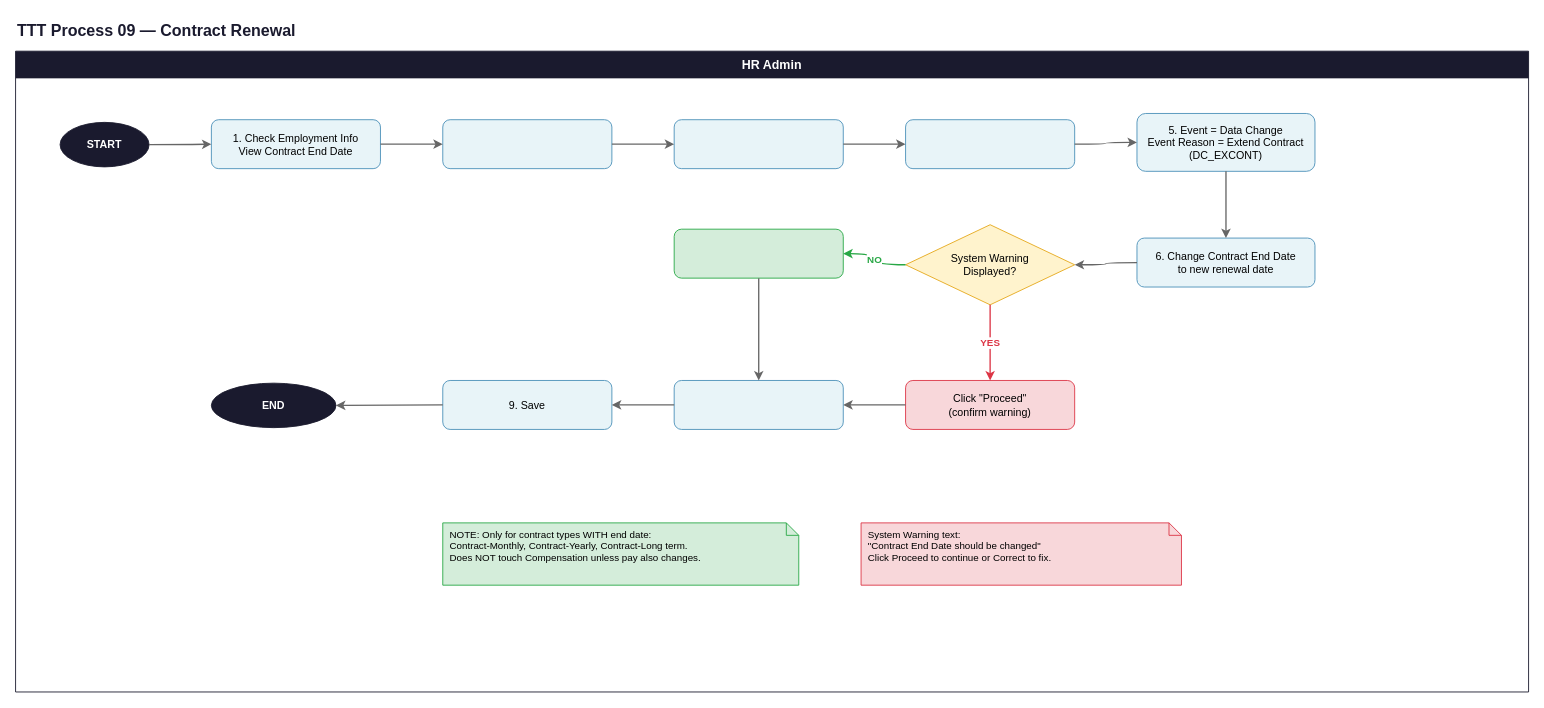
The diagram is 1544 pixels wide and 708 high, and some of its shapes have lost their labels. The shapes that lost their labels are listed below. From the top down, each one's centre as x and y in pixels, then its label:
[527,144]: 2. Actions → Change Job & Comp
[758,144]: 3. Select "Job Information" checkbox
[990,144]: 4. Set Effective Date
[758,253]: (No warning — date already correct)
[758,404]: 8. Verify Time Info section
